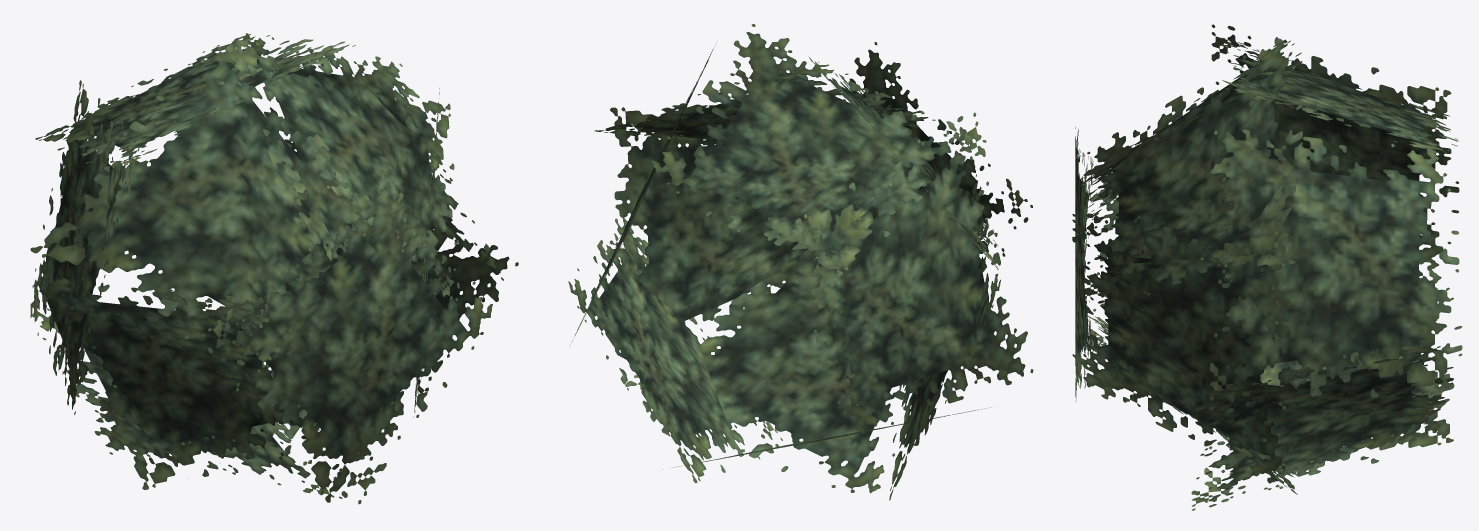
File: bush-big-4-juniper.obj
3 views of the same model, side by side, from view 1: azimuth 30°, elevation 25°; view 2: azimuth 150°, elevation 25°; view 3: azimuth 270°, elevation 25° (orthographic). The views are drawn at different scales.
Bounding box in the file's own units: 1.37 × 1.37 × 1.06.
Materials: 1 (1 with a texture image).
